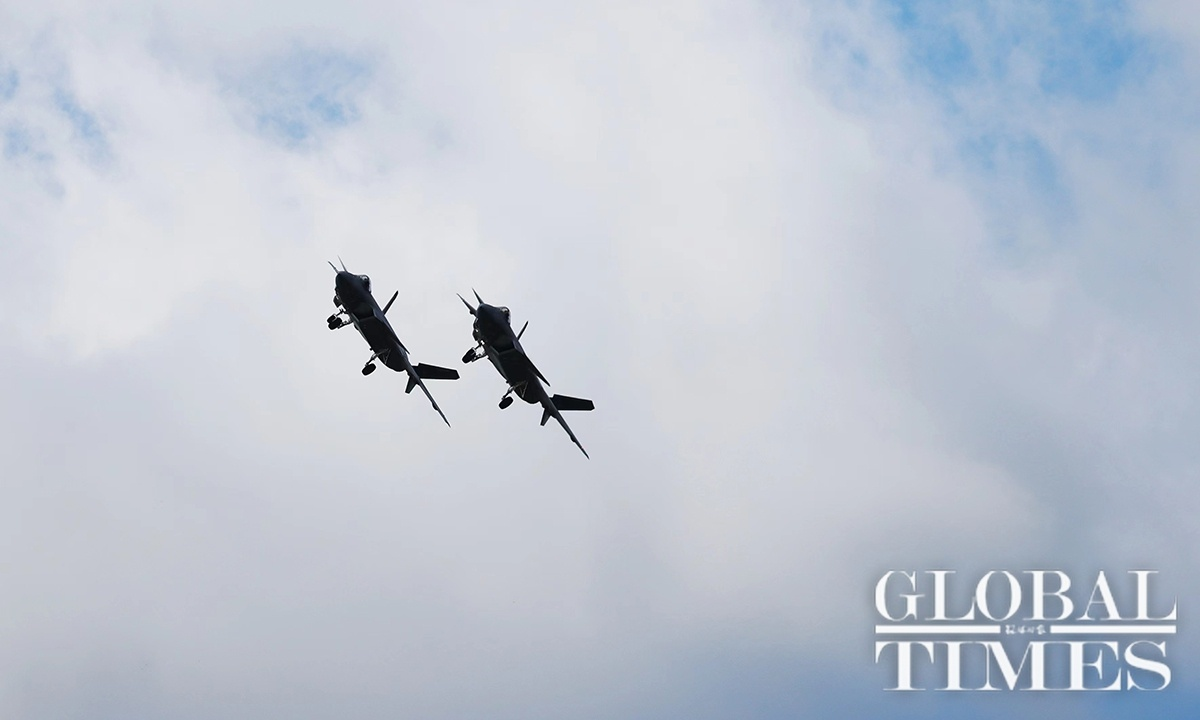J20: (456, 287, 596, 460), (326, 254, 461, 428)
